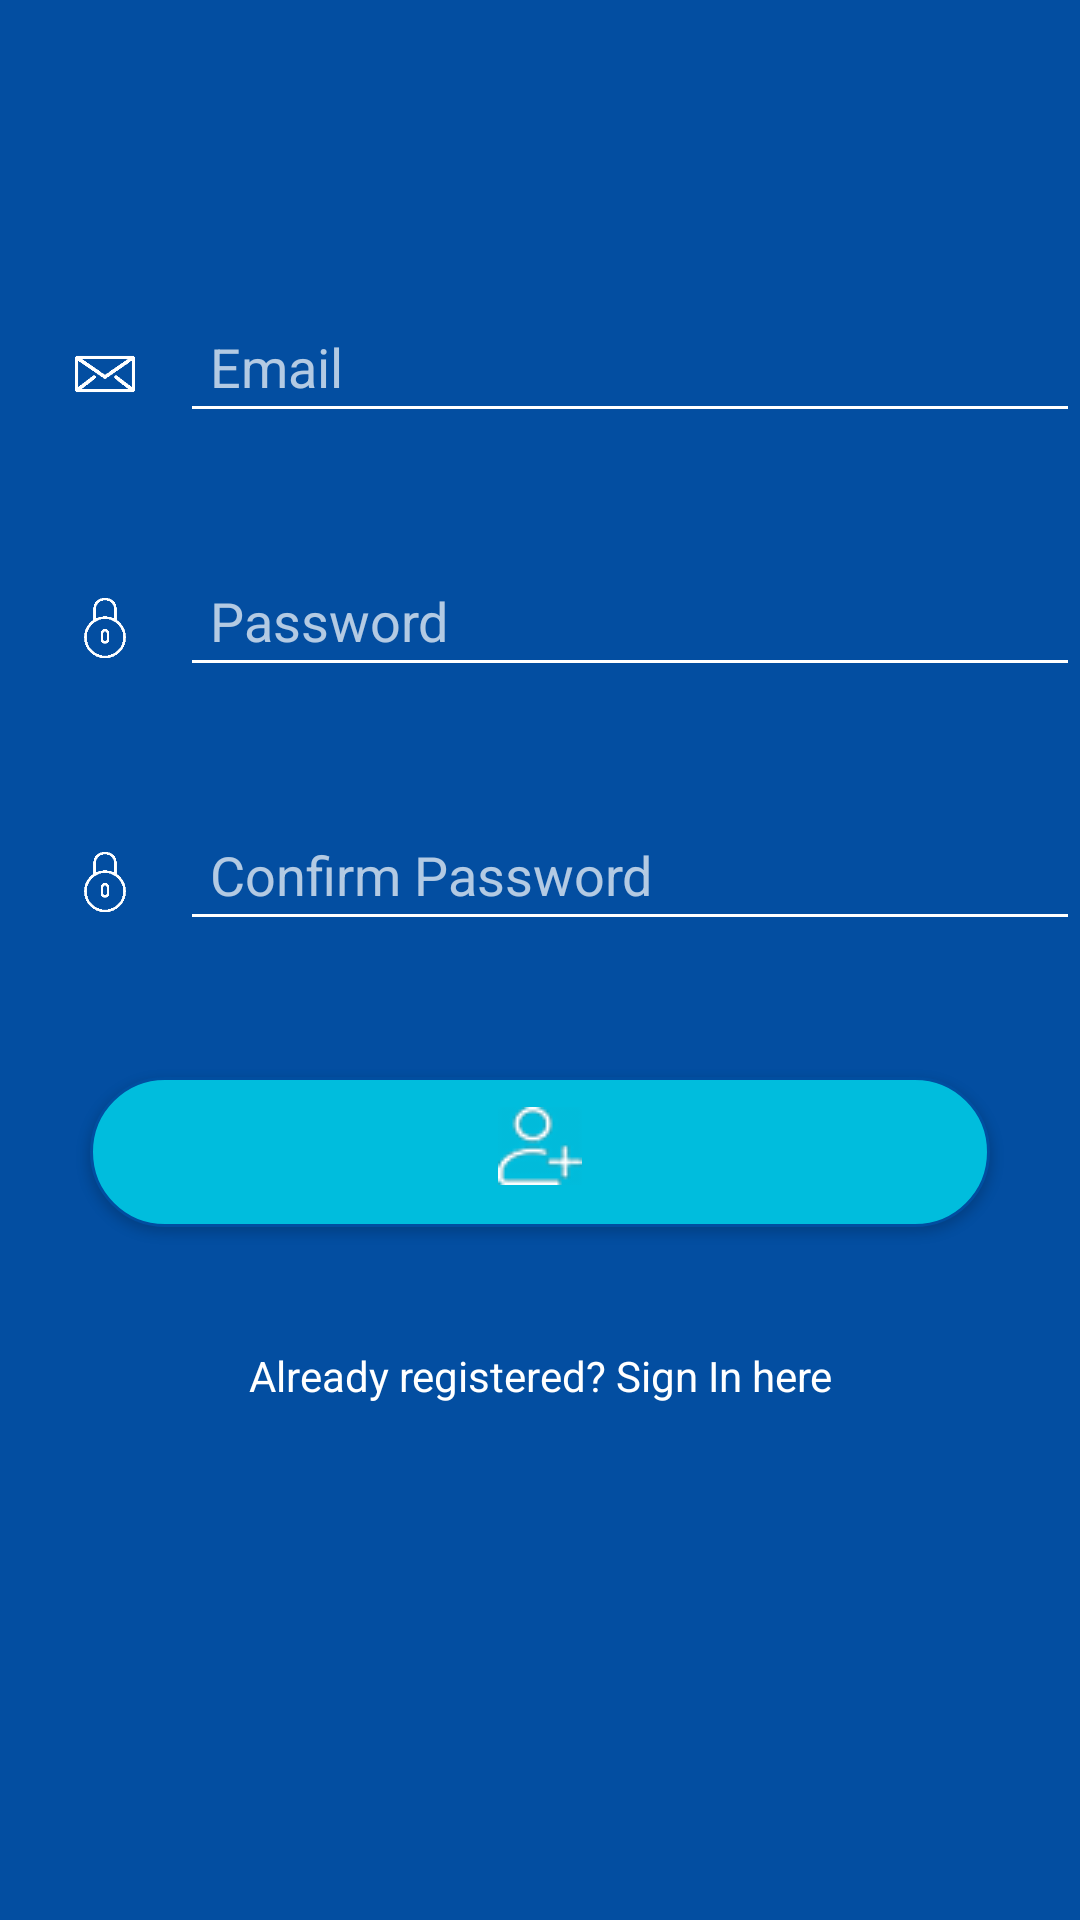

Where icons sit on this 1080px×1920px app screen, as [x1,y1,x2,y2]:
envelope: [75,356,135,392]
locked: [84,598,126,658], [84,852,126,912]
